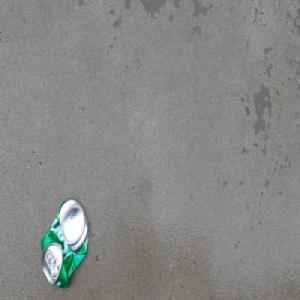SodaCan: (39, 195, 90, 291)
